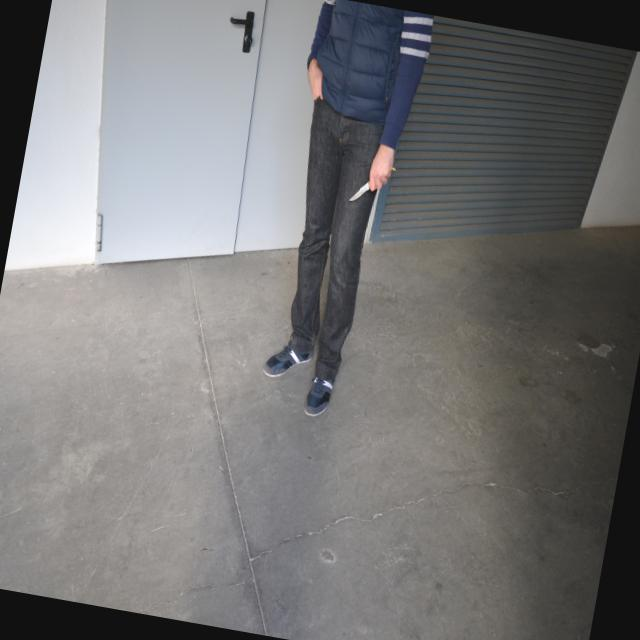knife: (344, 156, 398, 212)
